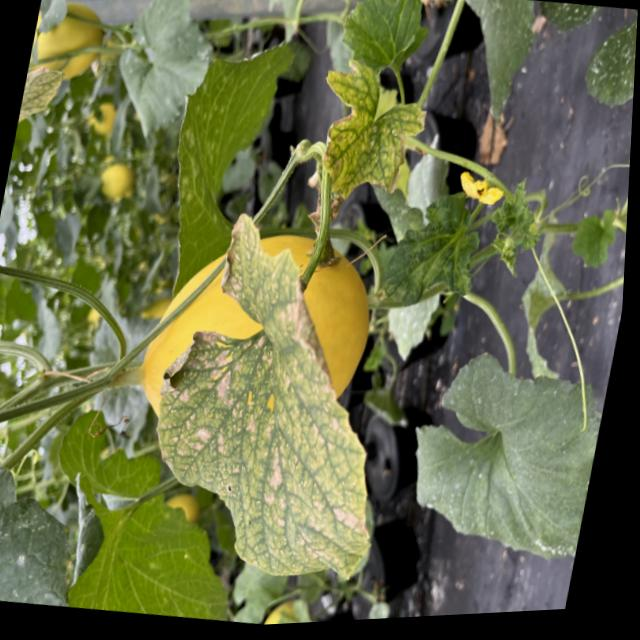CMV: (378, 179, 486, 313)
SLCV: (485, 180, 555, 295)
alternaria leaf blight: (124, 210, 432, 599), (303, 52, 437, 212), (15, 60, 70, 145)
downy mildew: (34, 406, 276, 633), (155, 23, 302, 278)
healthy: (335, 0, 437, 75)
powdery mildew: (393, 352, 610, 565), (0, 457, 95, 612)
